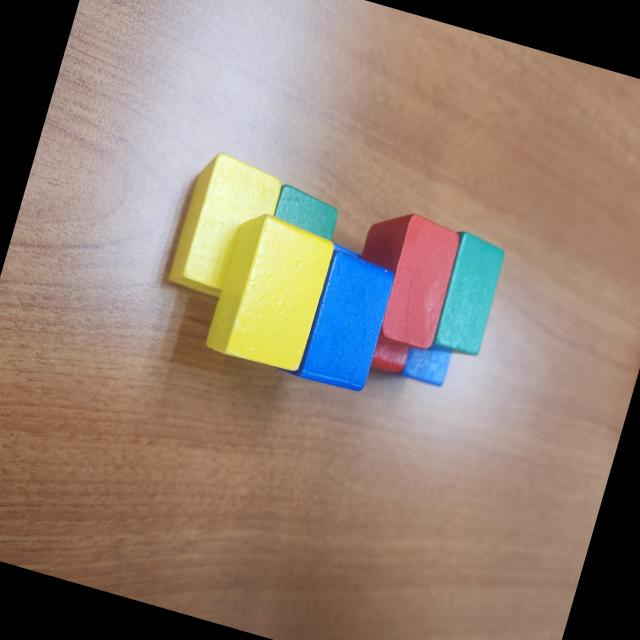blue: (273, 241, 402, 397), (397, 336, 455, 390)
green: (424, 228, 510, 362), (266, 182, 346, 240)
red: (338, 204, 464, 359), (366, 318, 416, 378)
yellow: (202, 208, 338, 374), (161, 147, 287, 306)
